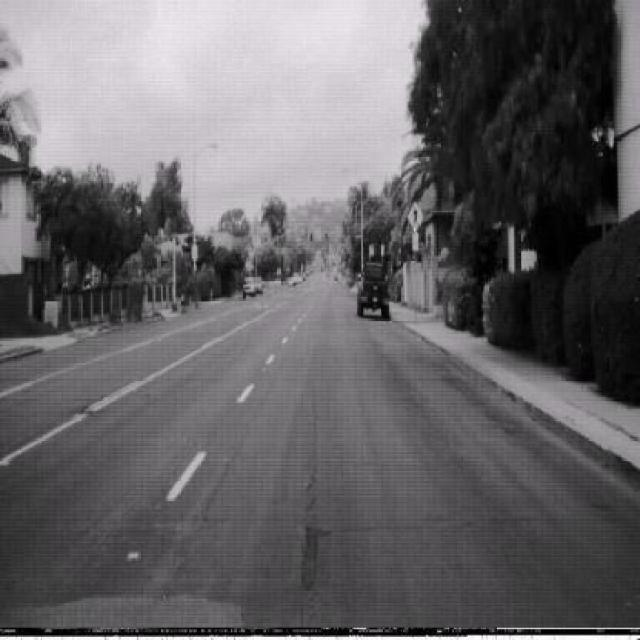pedestrianCrossing: (406, 200, 424, 232)
